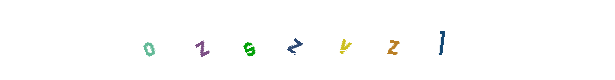1: (330, 0, 410, 80)
O: (122, 0, 202, 80)
S: (209, 0, 289, 80)
V: (267, 0, 347, 80)
Z: (168, 0, 248, 80), (218, 0, 298, 80), (330, 0, 410, 80)
